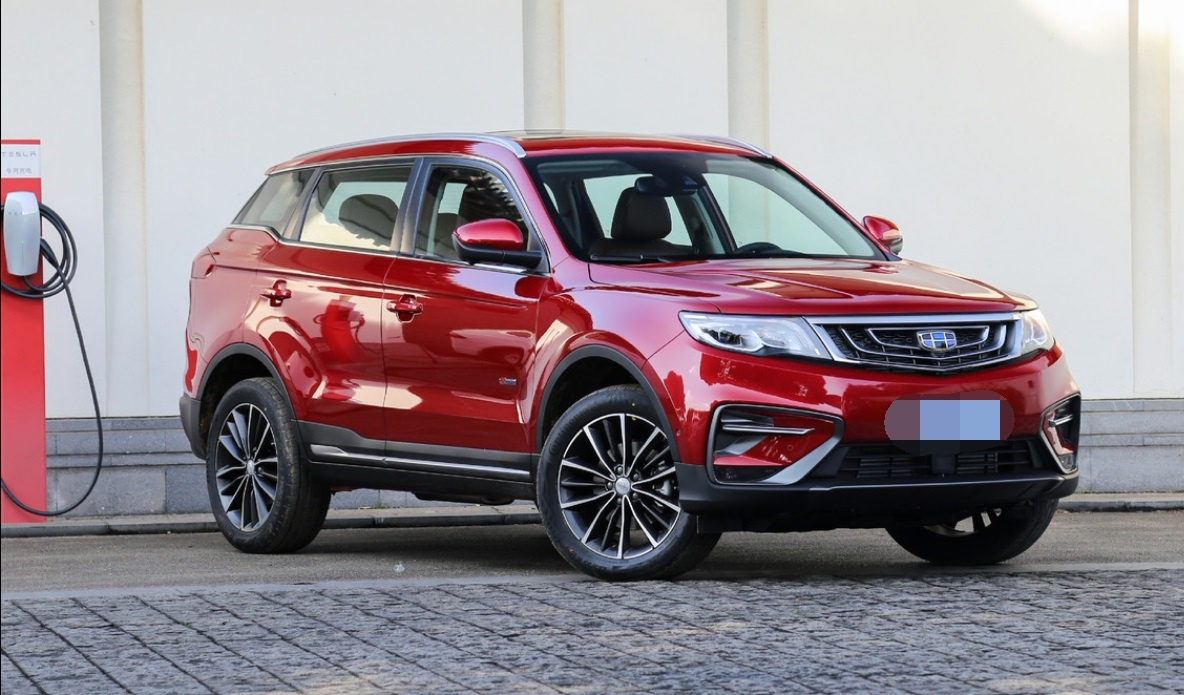SUV: (166, 110, 1098, 605)
